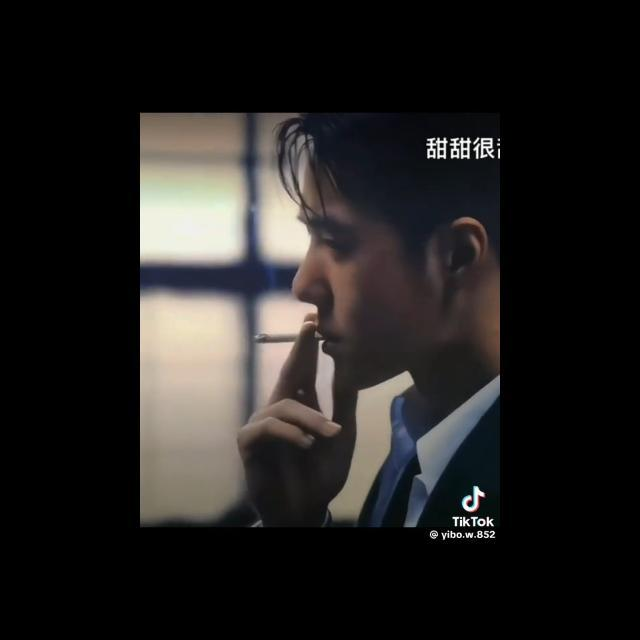rokok: (242, 318, 316, 352)
